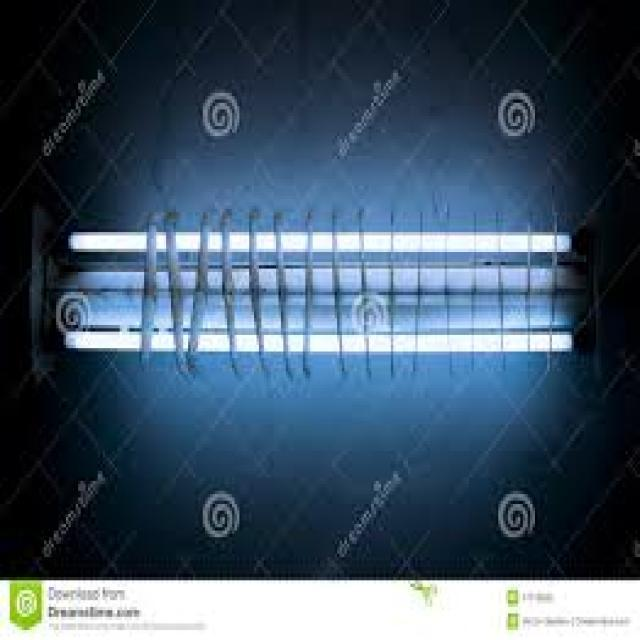tubelight_off: (53, 290, 586, 329), (43, 266, 578, 290)
tubelight_on: (66, 230, 576, 255), (64, 331, 576, 354)
